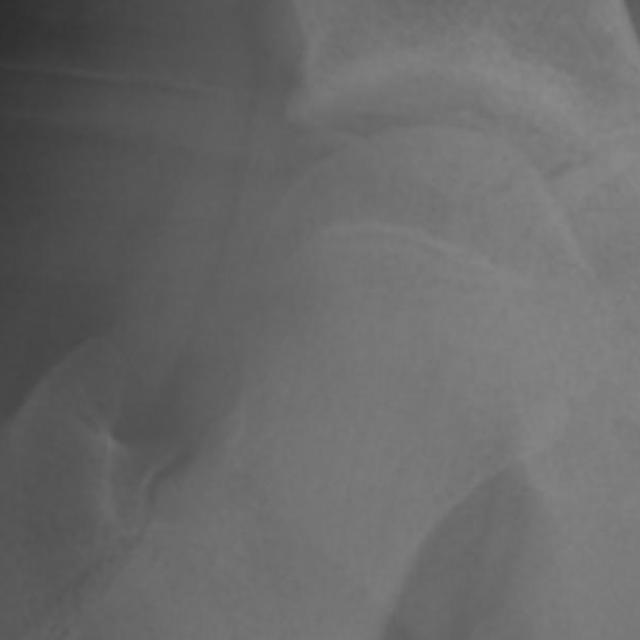Fitted_femural_head: (364, 130, 432, 364)
